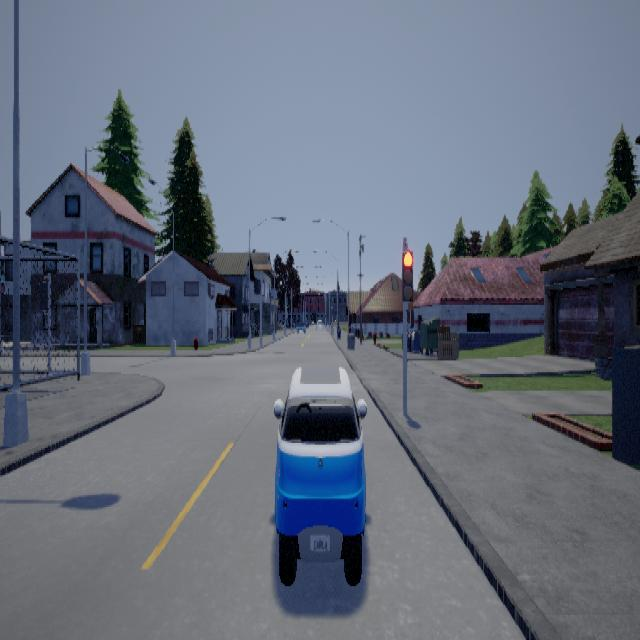red_light: (401, 239, 412, 310)
vehicle: (272, 364, 366, 584)
